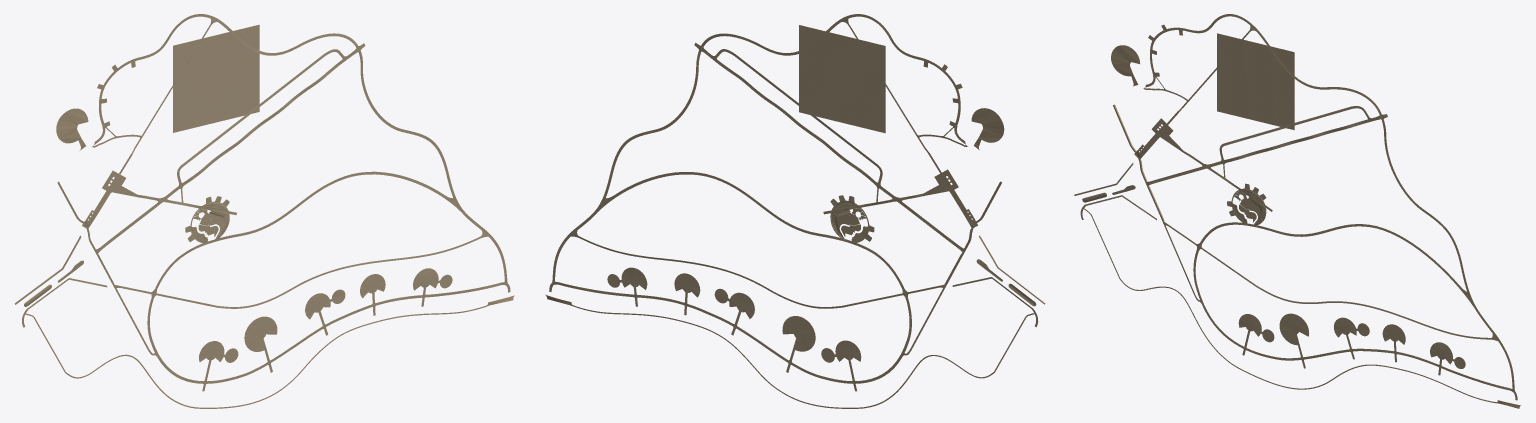
Rendered from baylands_sand.glb.
3 views of the same model, side by side, from view 1: azimuth 30°, elevation 25°; view 2: azimuth 150°, elevation 25°; view 3: azimuth 330°, elevation 25° (orthographic). The views are drawn at different scales.
Visible parts, largest first — view 1: Sand.001, terrain.001; view 2: Sand.001, terrain.001; view 3: Sand.001, terrain.001.
Part boxes in pixels (x1=…): Sand.001: x1=14, y1=14, x2=514, y2=408; terrain.001: x1=173, y1=24, x2=259, y2=236; Sand.001: x1=545, y1=14, x2=1045, y2=408; terrain.001: x1=799, y1=25, x2=885, y2=236; Sand.001: x1=1074, y1=14, x2=1520, y2=408; terrain.001: x1=1217, y1=33, x2=1294, y2=222.
Size of the model in its own units: 649 by 499 by 3.92.
1 material, 1 textured.
